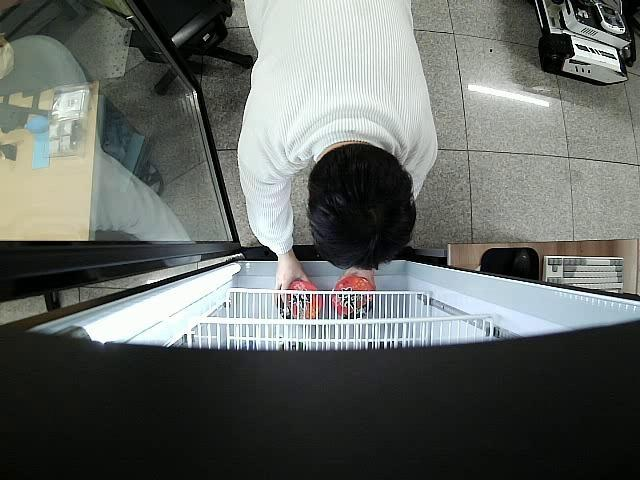01_ShinRamen_L: (332, 276, 374, 318), (280, 281, 323, 320)
